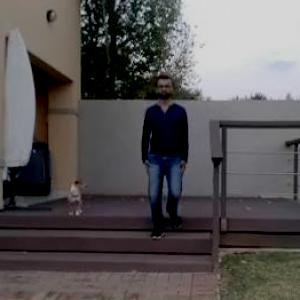follow: (150, 74, 192, 245)
